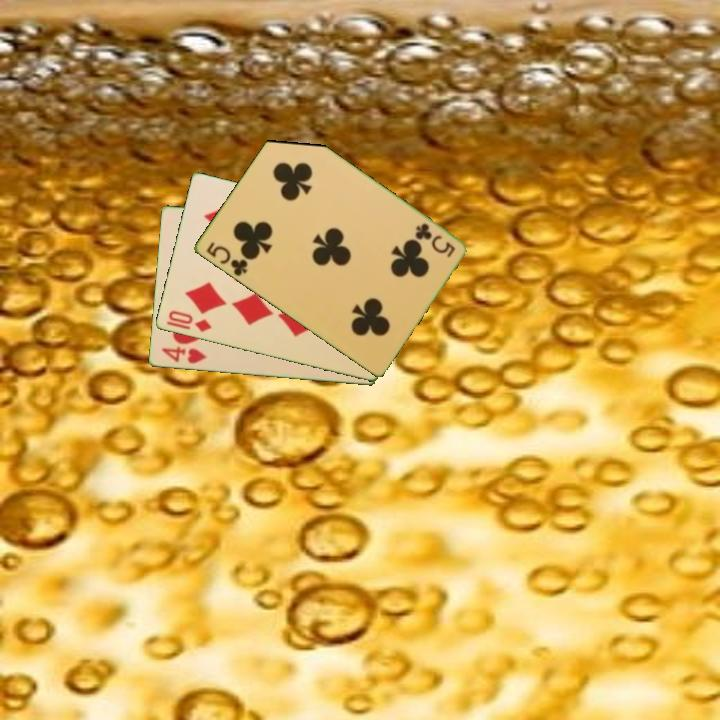10d: (164, 307, 214, 335)
4h: (158, 343, 209, 367)
5c: (202, 238, 250, 279), (411, 219, 457, 260)
